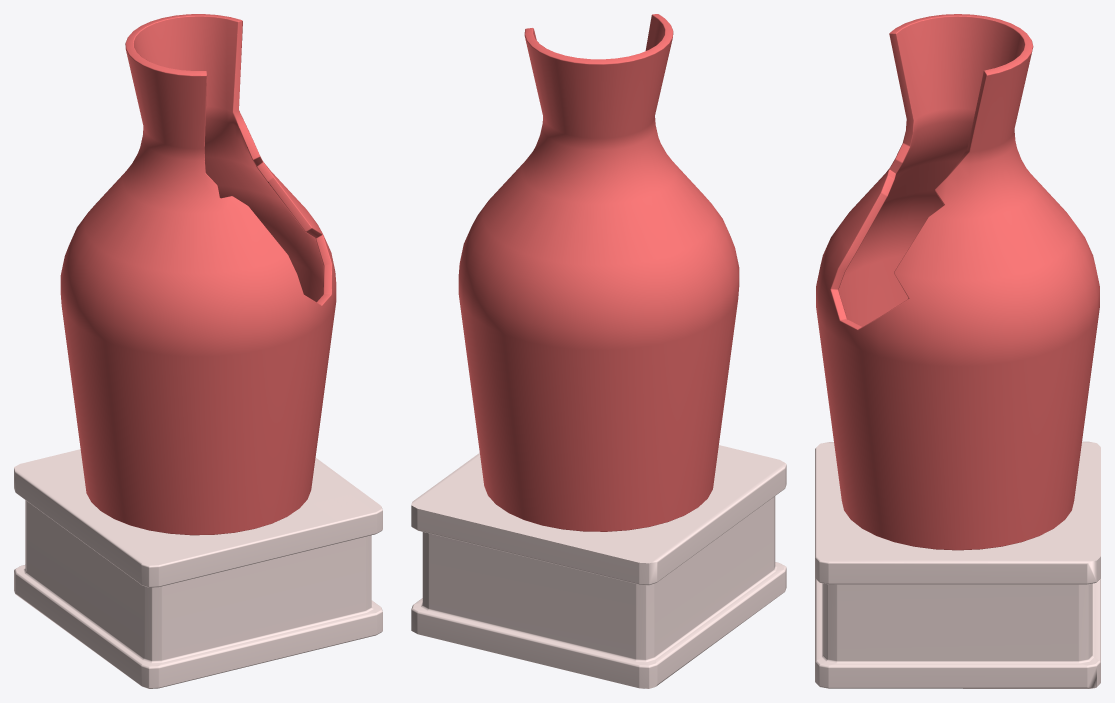
The model's file is Public_9_Exhibit_Vase_3.glb.
3 views of the same model, side by side, from view 1: azimuth 30°, elevation 25°; view 2: azimuth 150°, elevation 25°; view 3: azimuth 270°, elevation 25° (orthographic). The views are drawn at different scales.
Visible parts, largest first — view 1: Public_9_Exhibit_Vase_3; view 2: Public_9_Exhibit_Vase_3; view 3: Public_9_Exhibit_Vase_3.
Part boxes in pixels (x1,y1,x2,y2): Public_9_Exhibit_Vase_3: (14,14,382,688); Public_9_Exhibit_Vase_3: (411,14,786,688); Public_9_Exhibit_Vase_3: (815,14,1100,688).
Bounding box in the file's own units: 1.48 × 3.35 × 1.48.
1 material, 1 textured.
